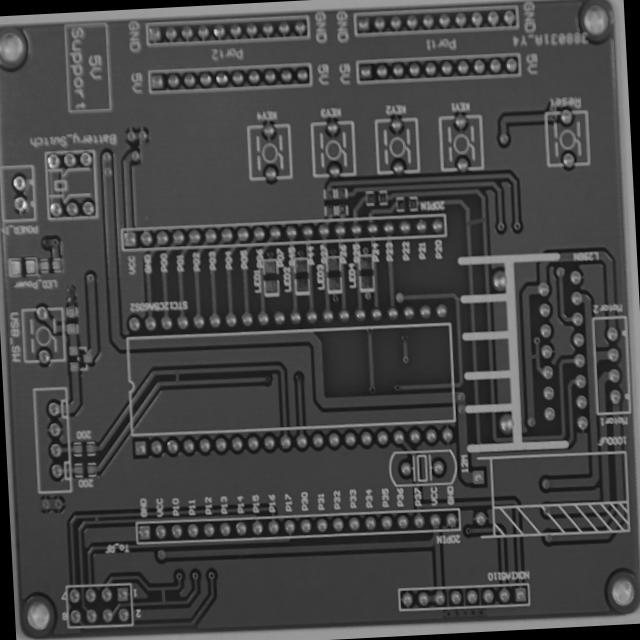short: (461, 207, 492, 236), (152, 582, 172, 607), (167, 365, 187, 389), (522, 344, 541, 368), (88, 511, 104, 527)
